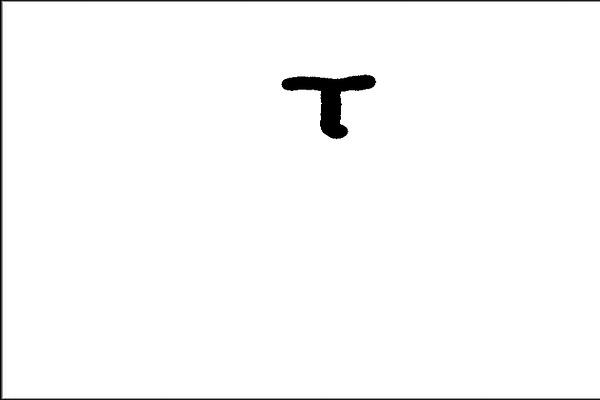T: (278, 72, 380, 137)
